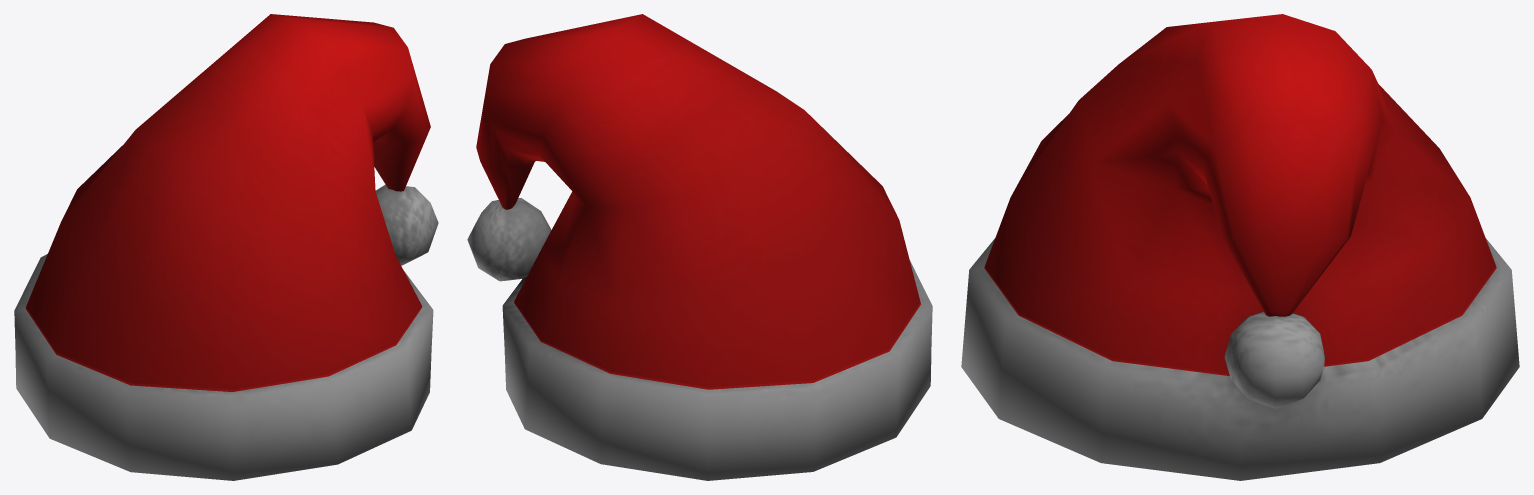
Rendered from SantaHat.FBX.
3 renders of one model, left to right at view 1: azimuth 30°, elevation 25°; view 2: azimuth 150°, elevation 25°; view 3: azimuth 270°, elevation 25°, orthographic. The views are drawn at different scales.
Parts seen in each view (by area): view 1: santaHat; view 2: santaHat; view 3: santaHat.
Part boxes in pixels (x1,y1,x2,y2): santaHat: (14,14,438,480); santaHat: (467,14,932,480); santaHat: (961,14,1519,480).
Bounding box in the file's own units: 41.08 × 33.78 × 40.62.
Materials: 1 (1 with a texture image).
